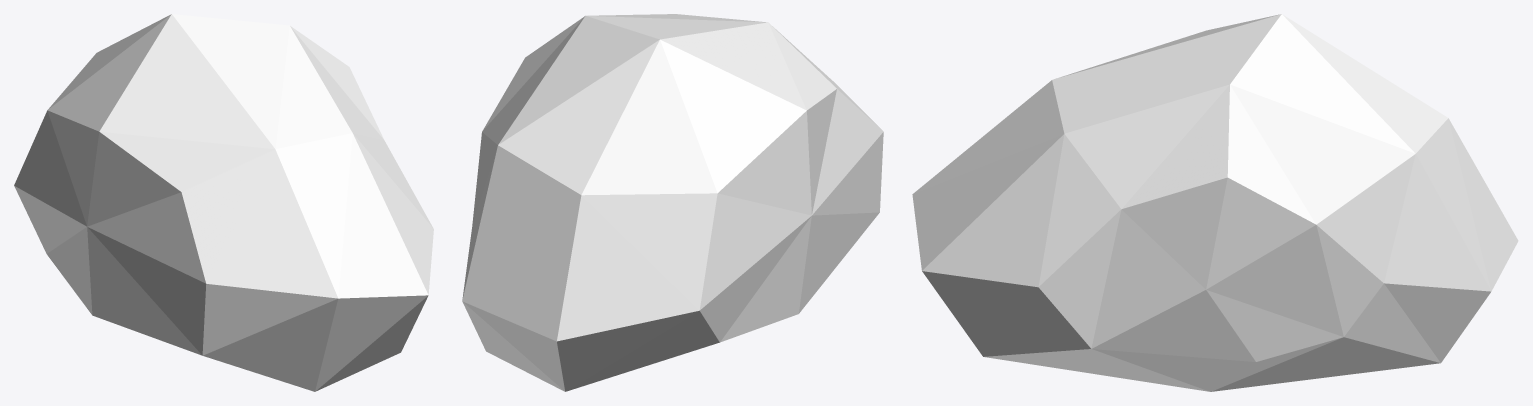
The model's file is Crystal 1.fbx.
3 renders of one model, left to right at view 1: azimuth 30°, elevation 25°; view 2: azimuth 150°, elevation 25°; view 3: azimuth 270°, elevation 25°, orthographic. The views are drawn at different scales.
Visible parts, largest first — view 1: Crystal 1; view 2: Crystal 1; view 3: Crystal 1.
Part boxes in pixels (left/top/right/bottom): Crystal 1: left=14, top=14, right=433, bottom=391; Crystal 1: left=462, top=14, right=883, bottom=391; Crystal 1: left=912, top=14, right=1518, bottom=391.
Bounding box in the file's own units: 421 × 449 × 718.
1 material, 1 textured.
